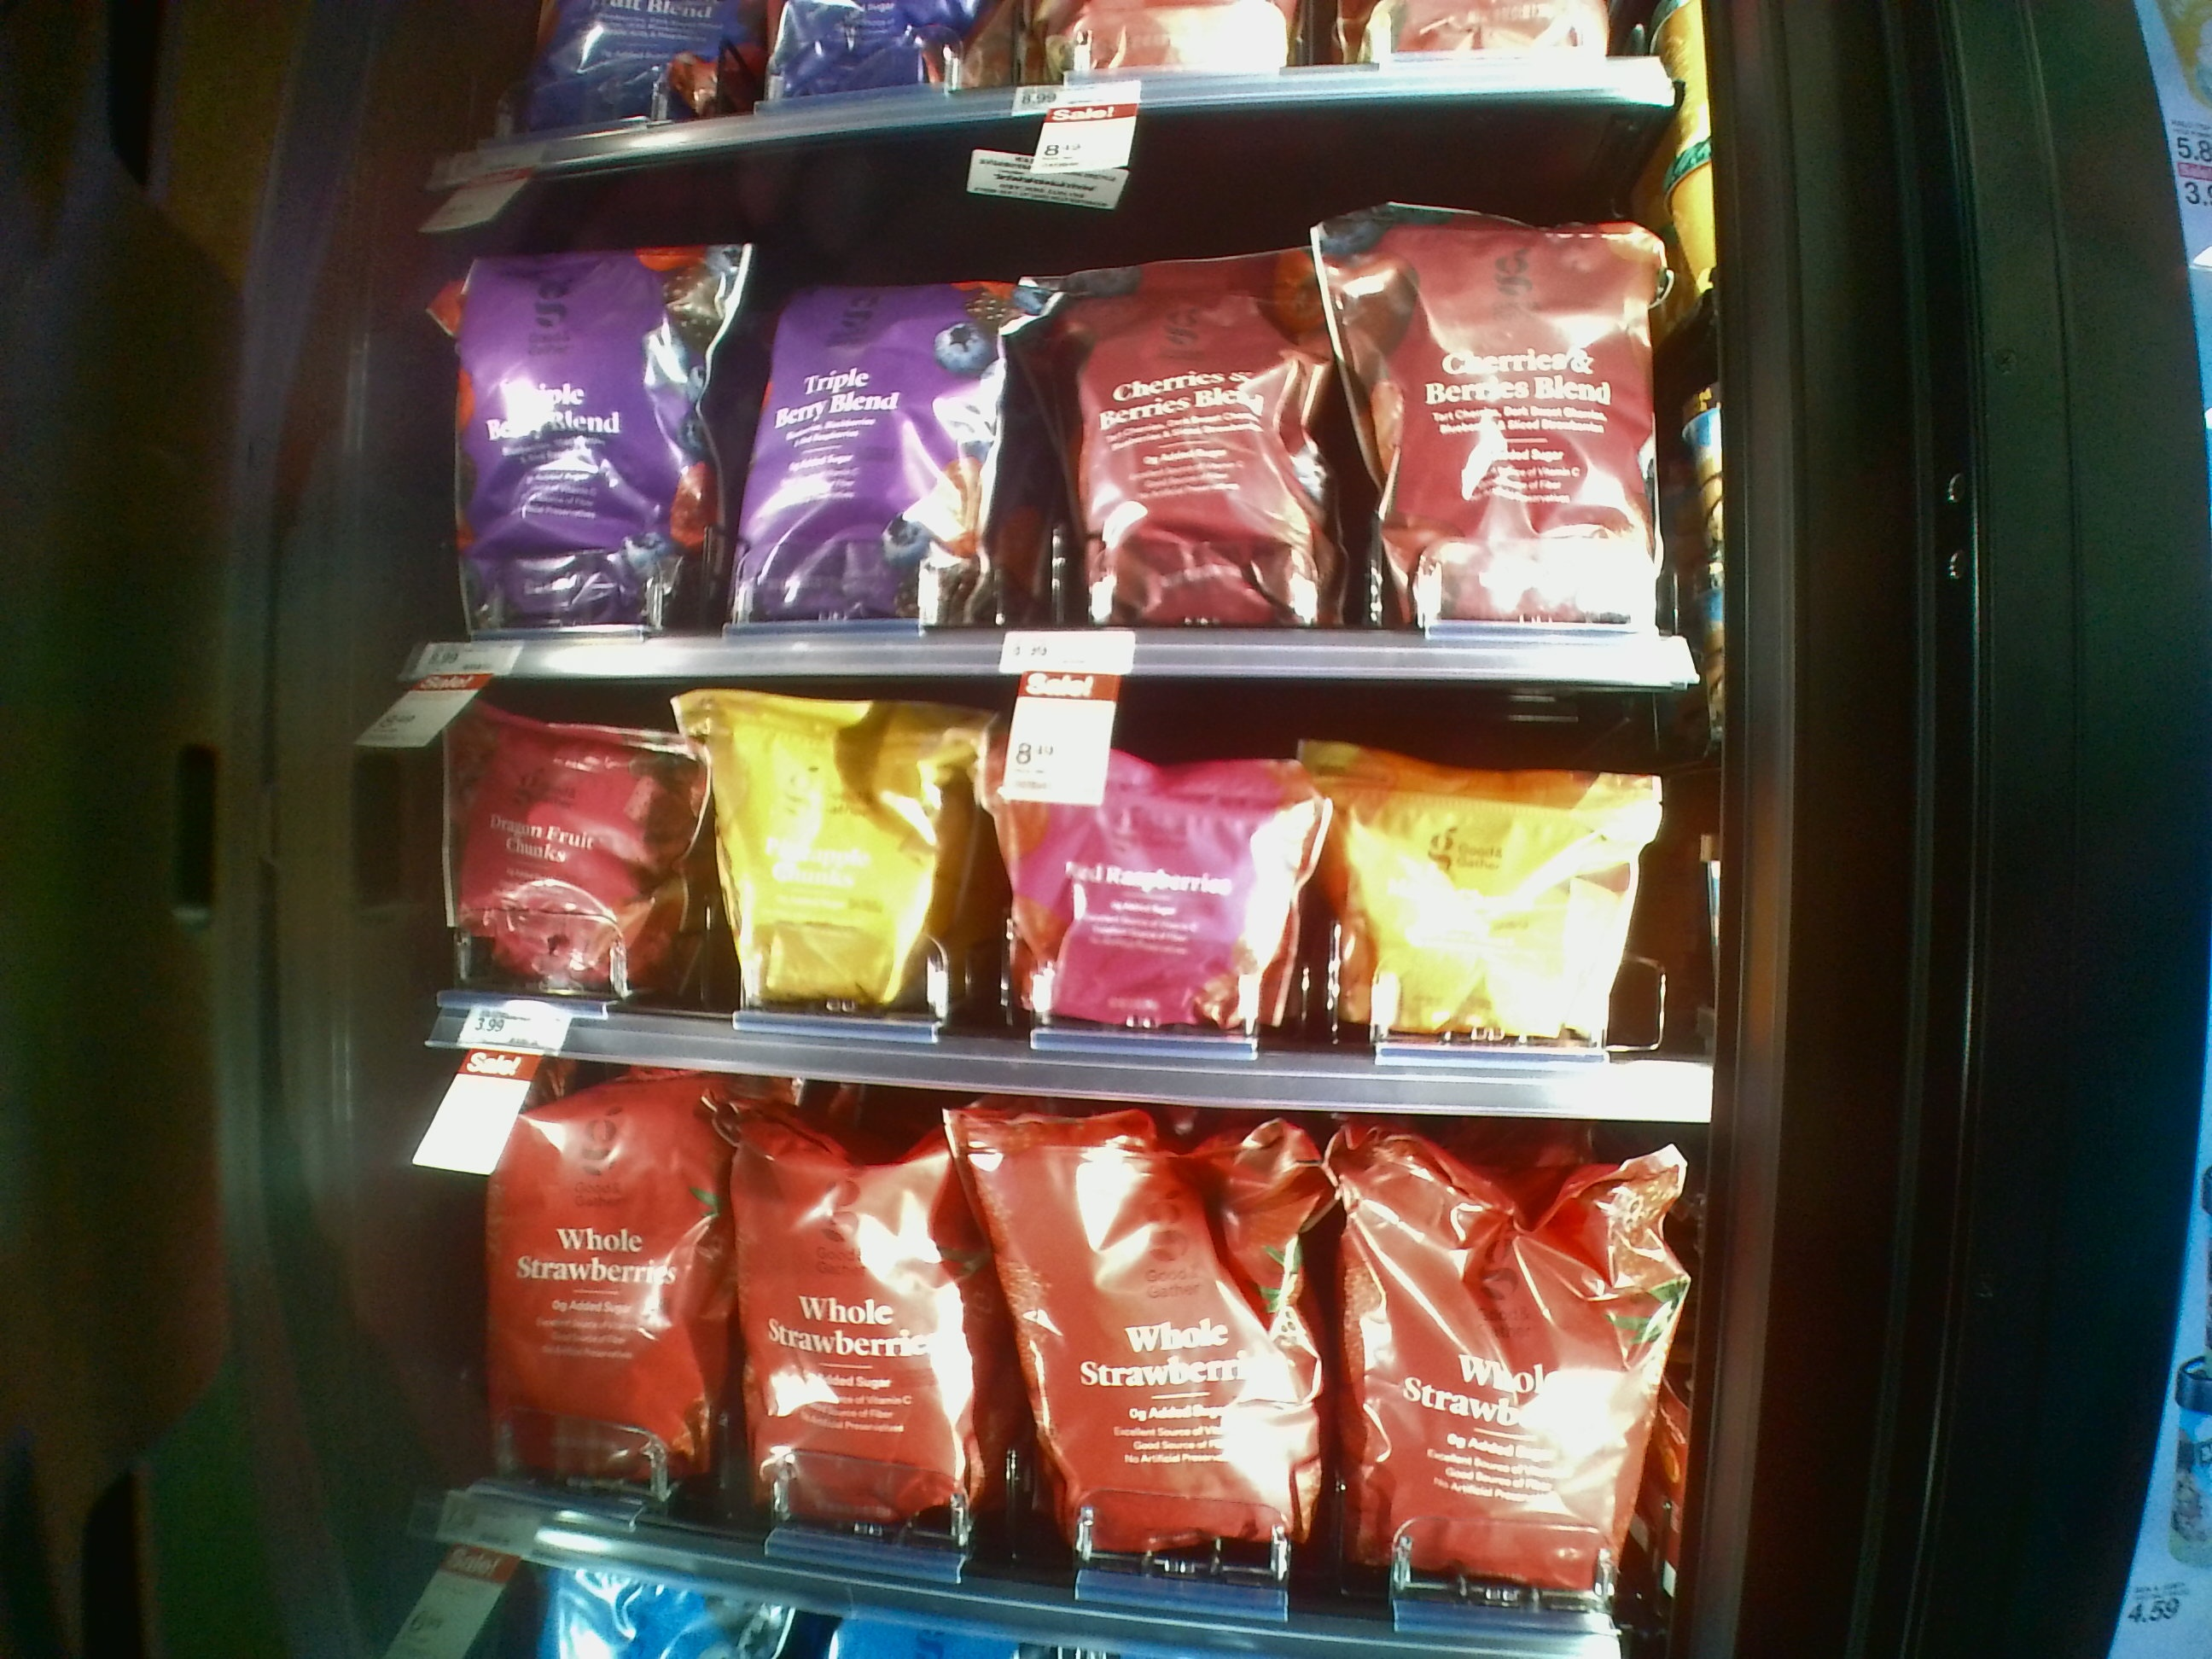shelf: (409, 131, 1712, 685), (423, 1101, 1710, 1629), (425, 692, 1714, 1077)
